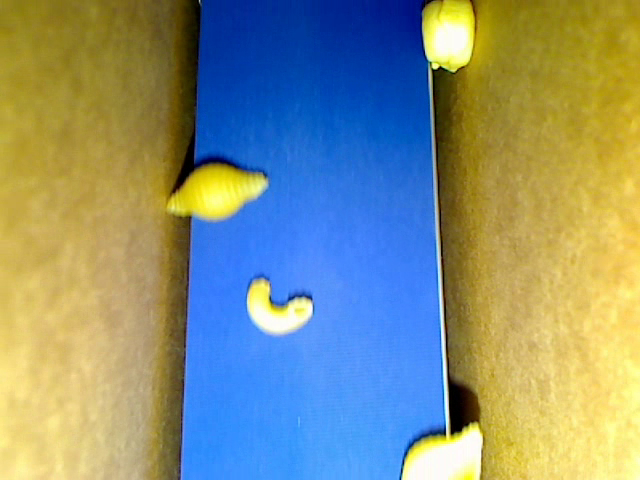elbow: (245, 277, 312, 335)
shell: (165, 161, 268, 222), (398, 423, 483, 479)
